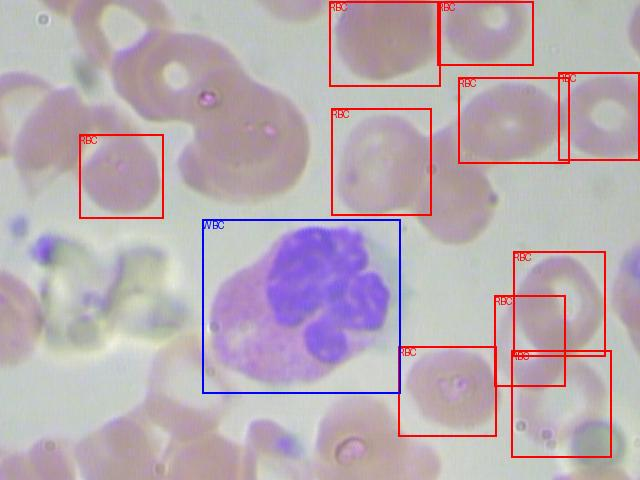RBC: (511, 350, 611, 457), (331, 108, 431, 215), (513, 251, 605, 356), (458, 77, 569, 163), (329, 1, 440, 86), (398, 346, 496, 436), (558, 72, 639, 160), (79, 134, 163, 218), (494, 295, 565, 386), (437, 1, 533, 65)
WBC: (202, 219, 400, 393)
